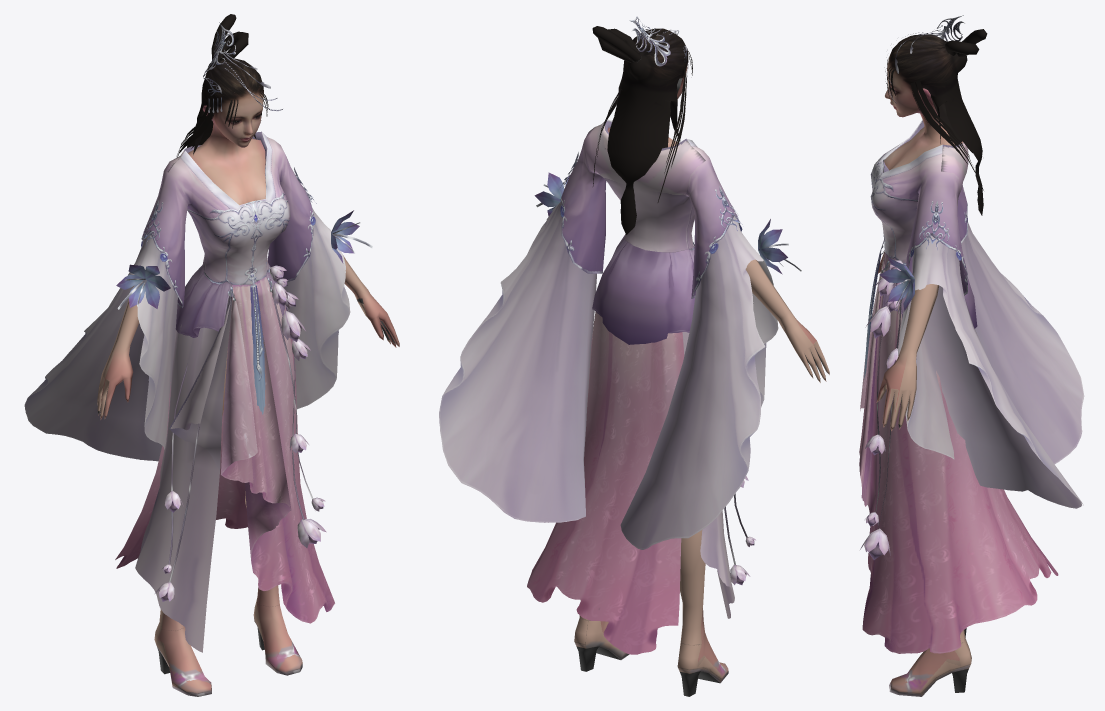
Rendered from tianlan.FBX.
3 renders of one model, left to right at view 1: azimuth 30°, elevation 25°; view 2: azimuth 150°, elevation 25°; view 3: azimuth 270°, elevation 25°, orthographic. The views are drawn at different scales.
Visible parts, largest first — view 1: Object025; view 2: Object025; view 3: Object025.
Part boxes in pixels (x1,y1,x2,y2): Object025: (24, 14, 399, 696); Object025: (439, 16, 829, 696); Object025: (859, 15, 1084, 696).
Bounding box in the file's own units: 11.23 × 22.35 × 7.19.
